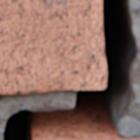brick: (0, 0, 106, 93), (33, 136, 139, 139)
crack: (1, 0, 138, 139)
